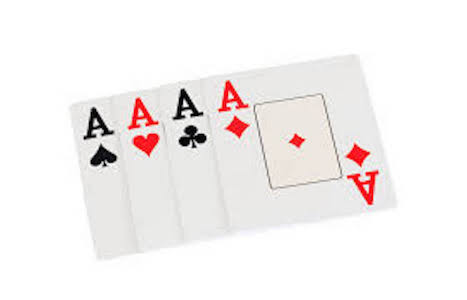AceOfClubs: (157, 77, 218, 249)
AceOfDiamonds: (202, 53, 404, 234)
AceOfHearts: (109, 85, 176, 252)
AceOfSpades: (67, 95, 129, 272)
